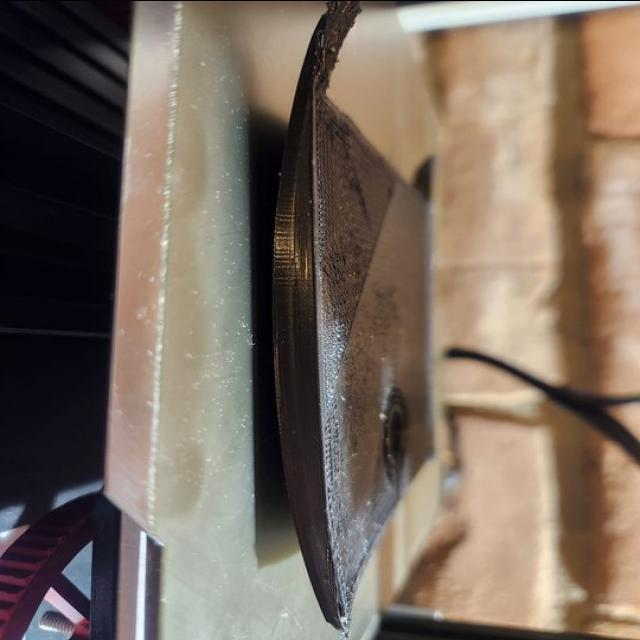Warping: (260, 472, 342, 632), (253, 62, 327, 174)
